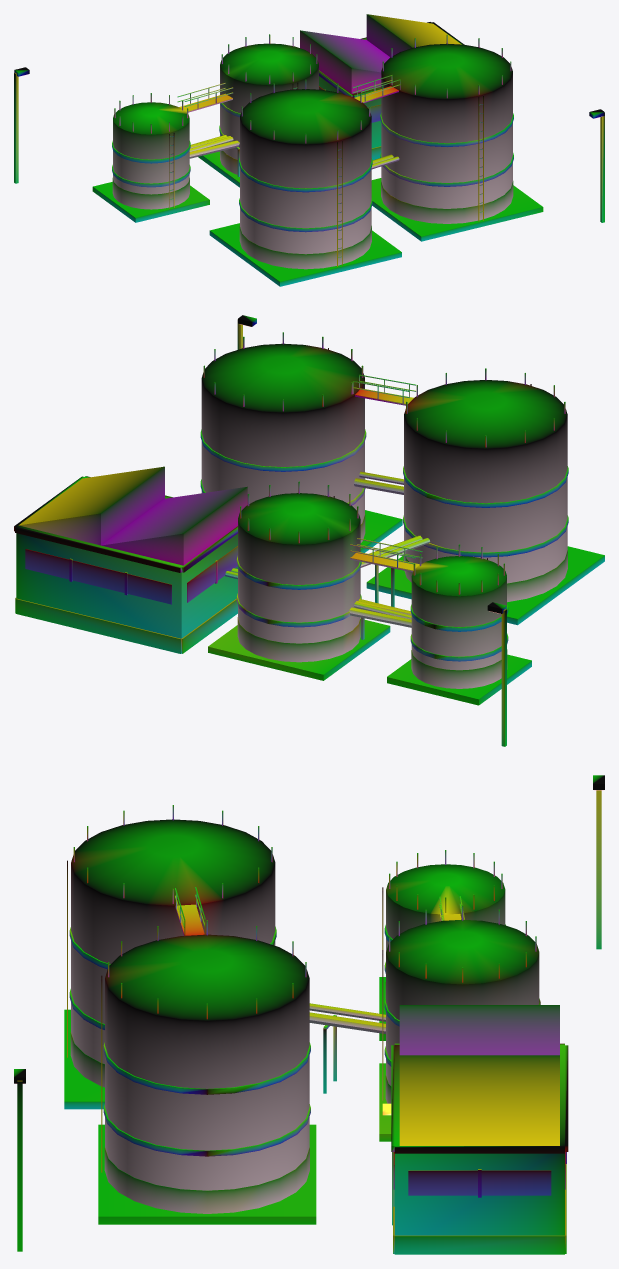
The model's file is Ind_Tanks_V11.fbx.
3 renders of one model, top to bottom at view 1: azimuth 30°, elevation 25°; view 2: azimuth 150°, elevation 25°; view 3: azimuth 270°, elevation 25°, orthographic. The views are drawn at different scales.
Parts seen in each view (by area): view 1: Ind_Tanks_V11_LOD0; view 2: Ind_Tanks_V11_LOD0; view 3: Ind_Tanks_V11_LOD0.
Part boxes in pixels (x1=…): Ind_Tanks_V11_LOD0: x1=14, y1=14, x2=604, y2=286; Ind_Tanks_V11_LOD0: x1=14, y1=315, x2=604, y2=746; Ind_Tanks_V11_LOD0: x1=14, y1=775, x2=604, y2=1254.
Size of what is drawn, in the model's own units: 42.85 by 14.08 by 34.7.
